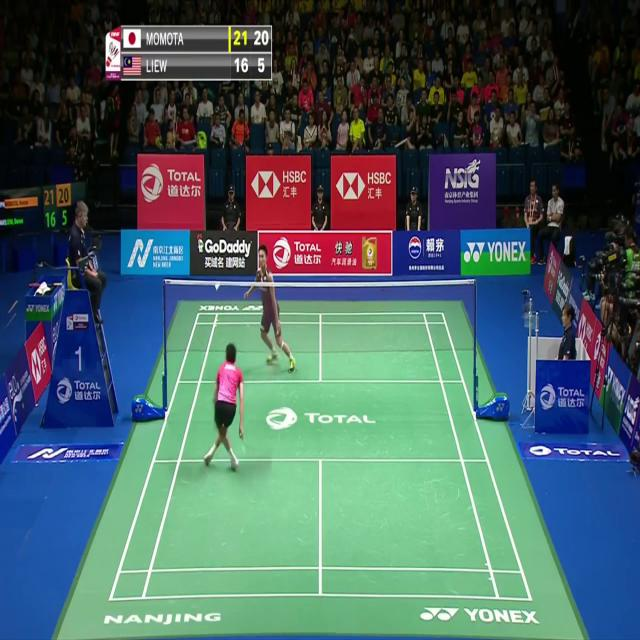Shuttlecock: (214, 282, 221, 294)
